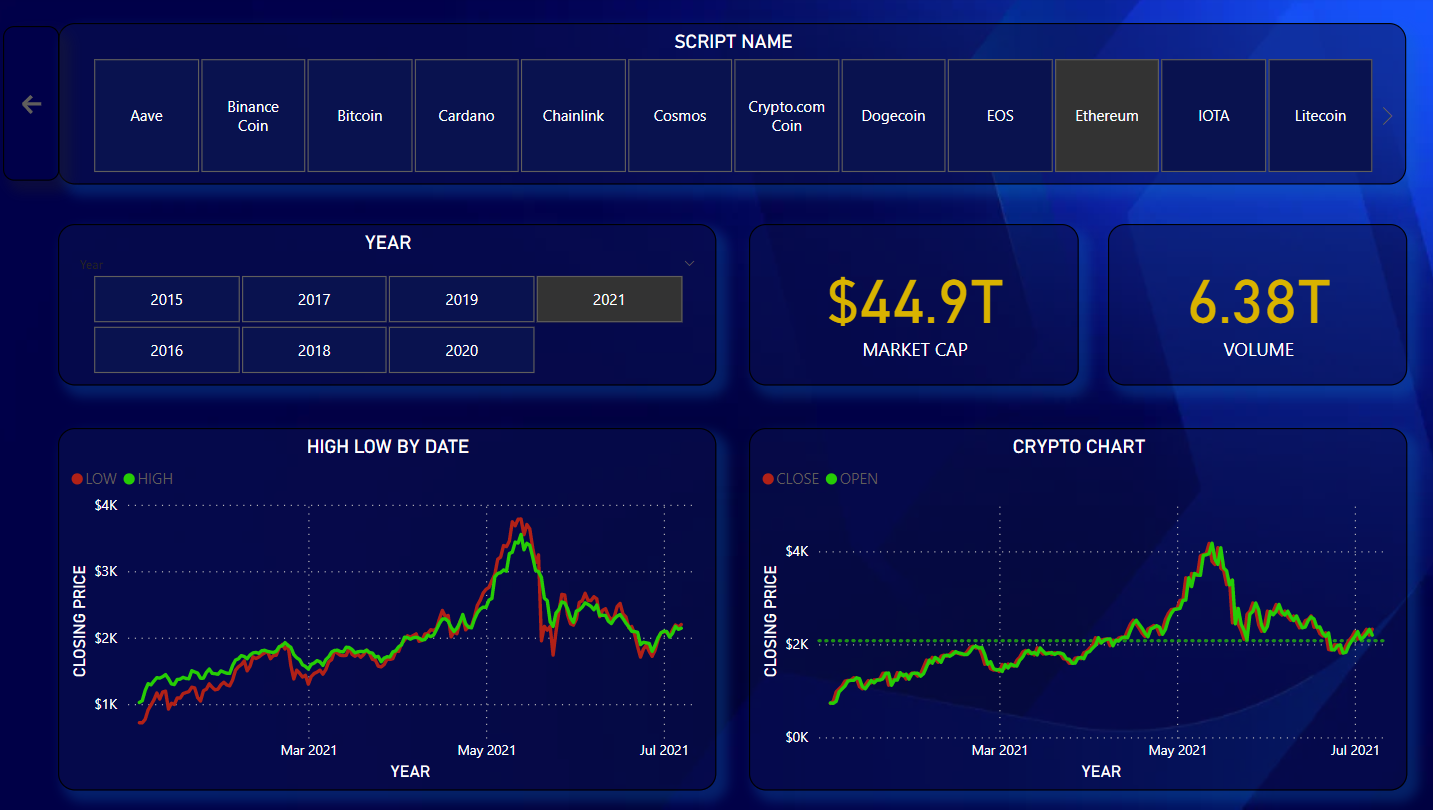

What the dashboard file says about the page in this screenshot:
{"tool":"powerbi","page":{"name":"Page 2","canvas":[1280,720],"ordinal":1},"visuals":[{"type":"slicer","title":"SCRIPT NAME","fields":{"Values":["CryptoData.Name"]},"box":[57.4,23.3,1194.4,143],"z":0,"group":"g1"},{"type":"slicer","title":"YEAR","fields":{"Values":["CryptoData.Year"]},"box":[57.4,201.3,582.6,143],"z":1000},{"type":"card","fields":{"Values":["Sum(CryptoData.Marketcap)"]},"box":[669.2,201.3,291.8,143],"z":2000},{"type":"lineChart","title":"HIGH LOW BY DATE","fields":{"Category":["CryptoData.Date"],"Y":["Sum(CryptoData.Low)"],"Y2":["Sum(CryptoData.High)"]},"box":[57.4,381.3,582.6,321],"z":3000},{"type":"card","fields":{"Values":["Sum(CryptoData.Volume)"]},"box":[987.2,201.3,264.6,143],"z":4000},{"type":"lineChart","title":"CRYPTO CHART","fields":{"Category":["CryptoData.Date"],"Y":["Sum(CryptoData.Close)"],"Y2":["Sum(CryptoData.Open)"]},"box":[669.2,381.3,582.6,321],"z":5000},{"type":"actionButton","box":[8.9,25.7,49.6,137.3],"z":5001,"group":"g1"},{"type":"group","id":"g1","title":"Group 1","box":[8.9,23.3,1242.9,143],"z":5002}]}

Visuals, with their boxes in screenshot pixels (x1, y1, x2, y2), scaled from the page's 1280x720 canvas onto the 1433x810 screenshot:
"SCRIPT NAME" slicer: (x1=64, y1=26, x2=1401, y2=187)
"YEAR" slicer: (x1=64, y1=226, x2=716, y2=387)
card - Sum(CryptoData.Marketcap): (x1=749, y1=226, x2=1076, y2=387)
"HIGH LOW BY DATE" lineChart: (x1=64, y1=429, x2=716, y2=790)
card - Sum(CryptoData.Volume): (x1=1105, y1=226, x2=1401, y2=387)
"CRYPTO CHART" lineChart: (x1=749, y1=429, x2=1401, y2=790)
actionButton: (x1=10, y1=29, x2=65, y2=183)
"Group 1" group: (x1=10, y1=26, x2=1401, y2=187)
